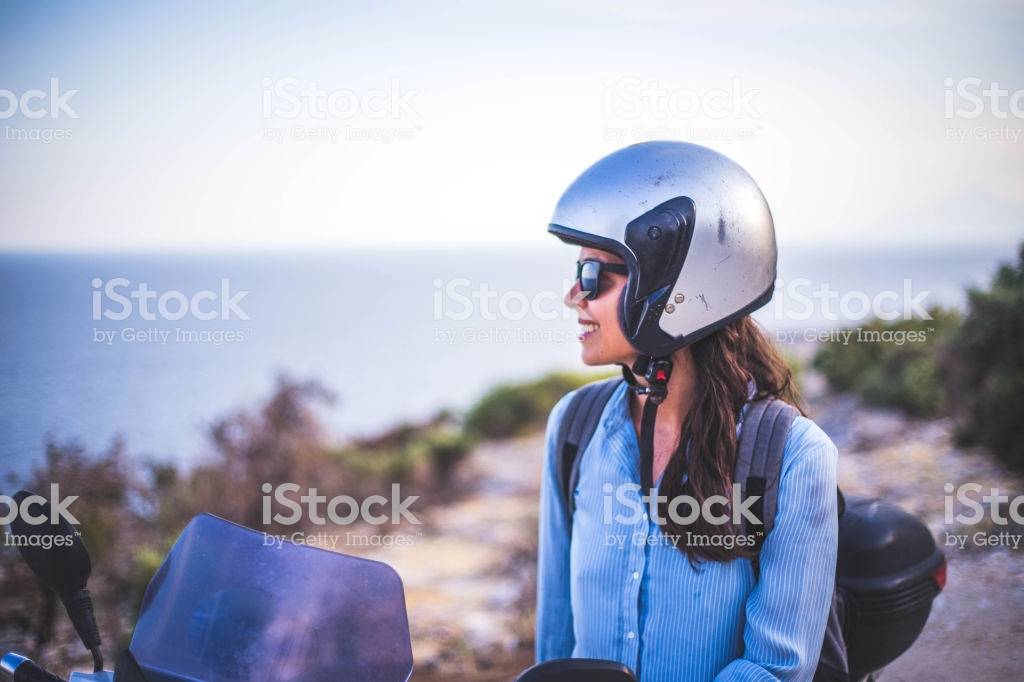helmet: (550, 140, 778, 352)
